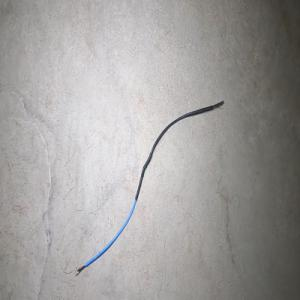Wire: (74, 99, 224, 276)
